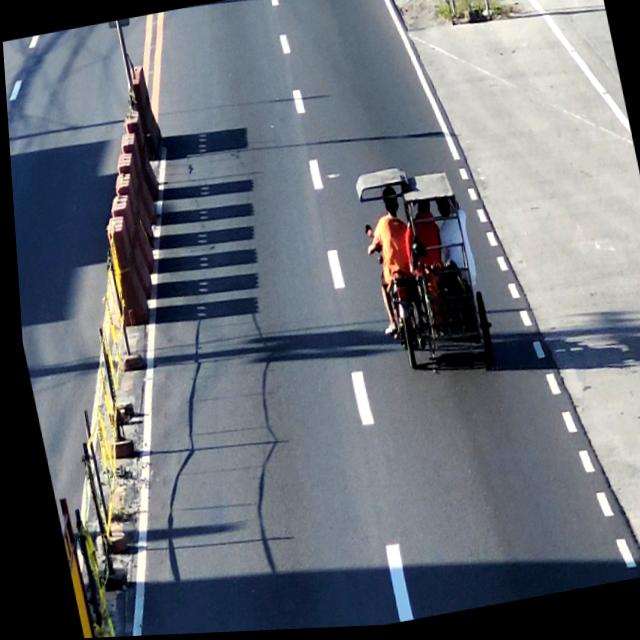Tricycle: (350, 153, 497, 385)
